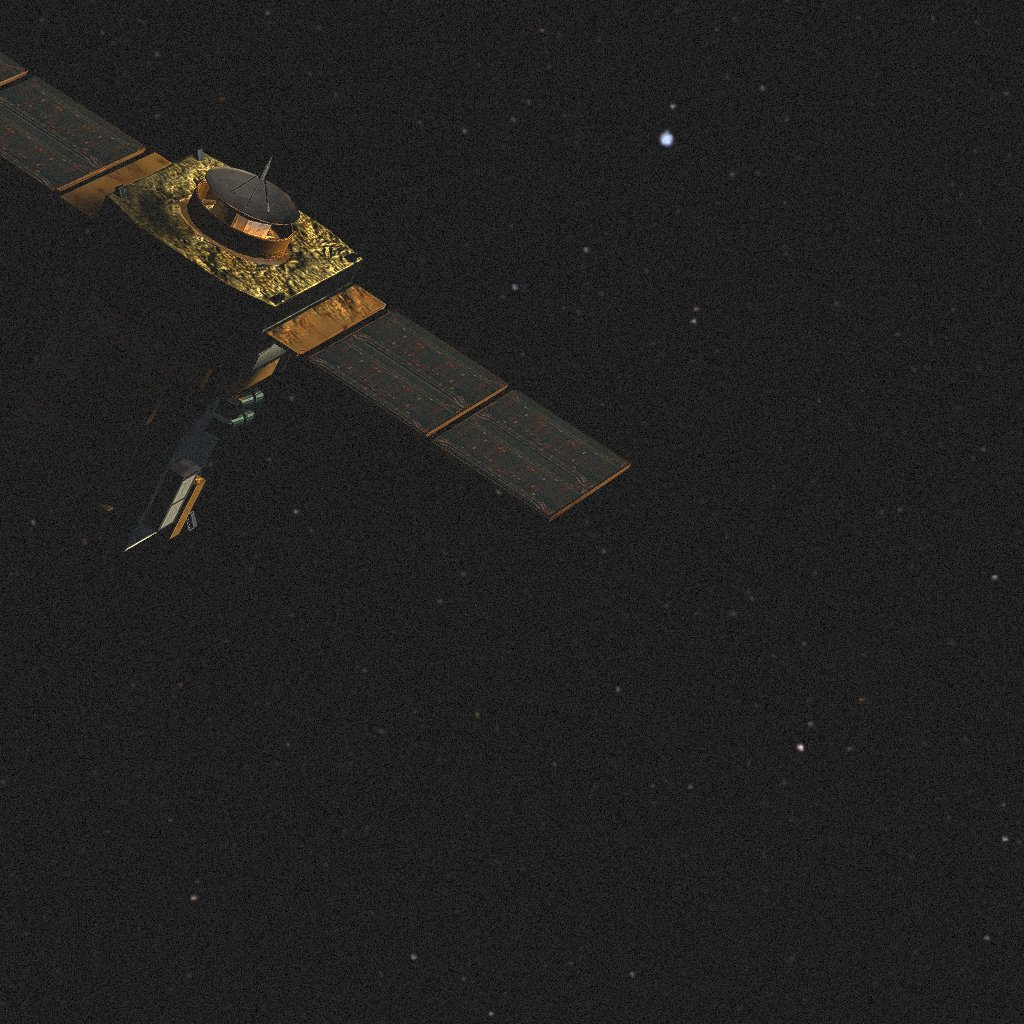soho: (0, 53, 631, 552)
